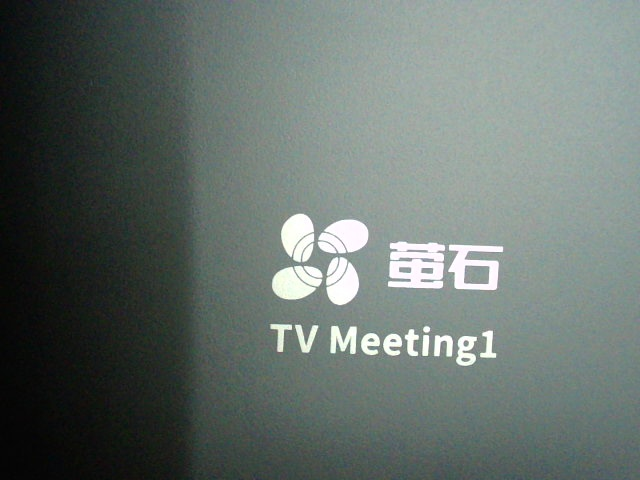BA_Yingshi: (261, 213, 508, 371)
